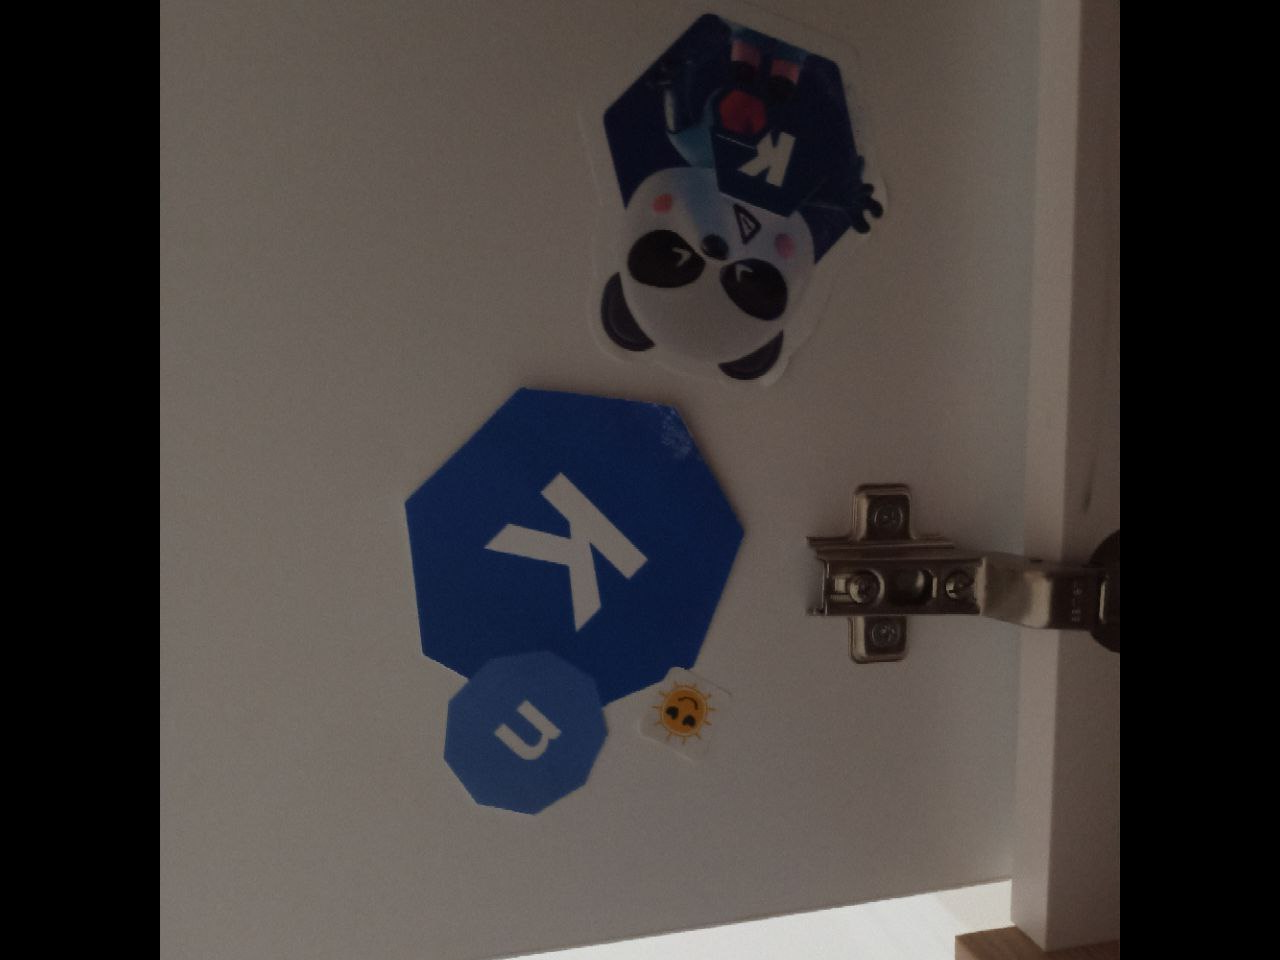knative: (400, 386, 747, 815)
